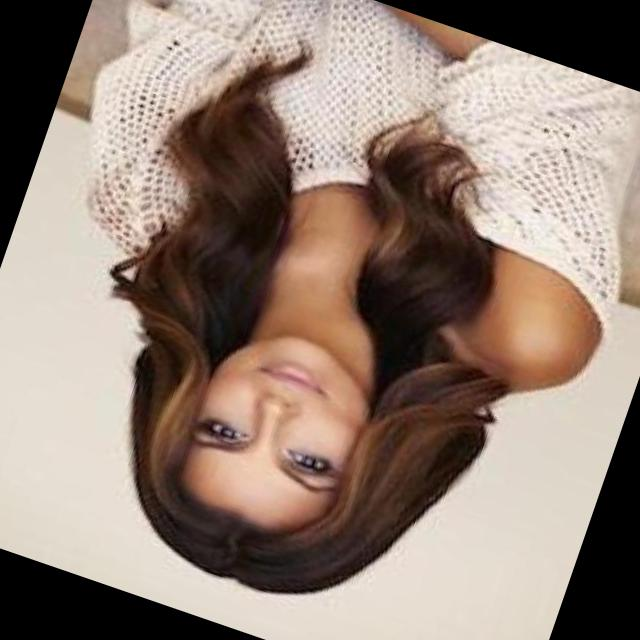bareface: (112, 298, 402, 610)
